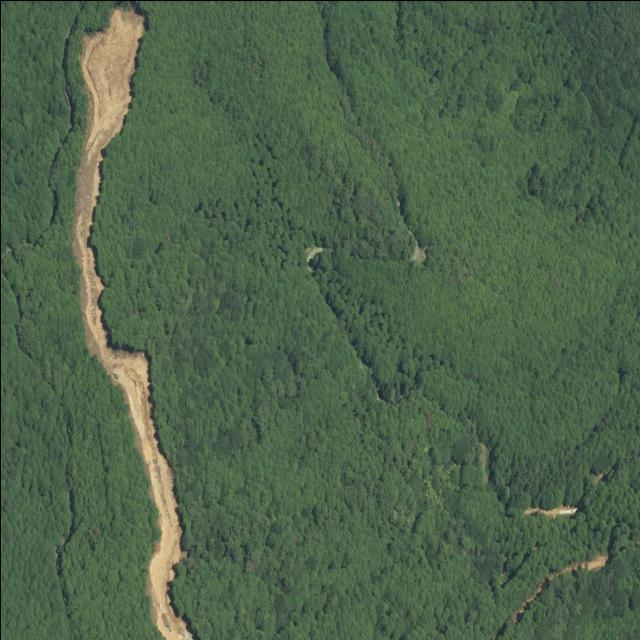landslide: (72, 6, 191, 640)
